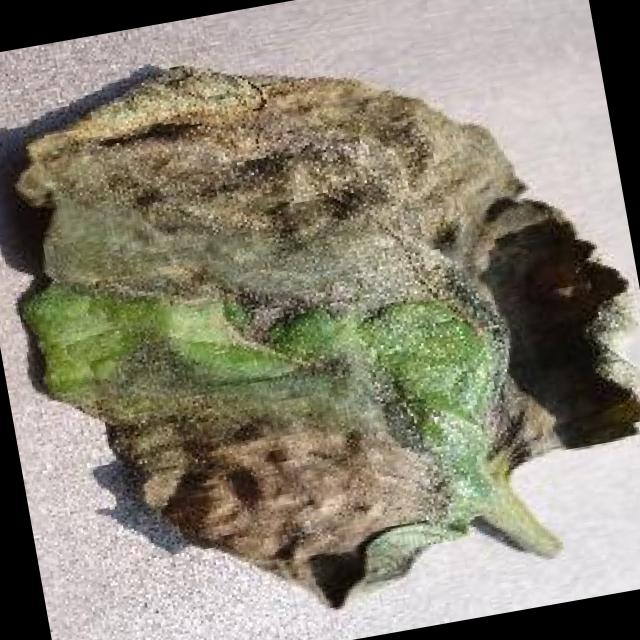Tomato_Late_Blight: (0, 0, 567, 427), (100, 386, 462, 640)
